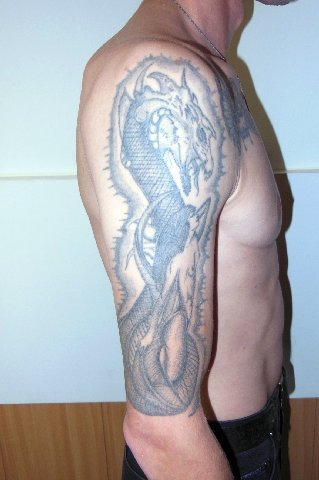tatu6_drakon: (87, 39, 253, 430)
